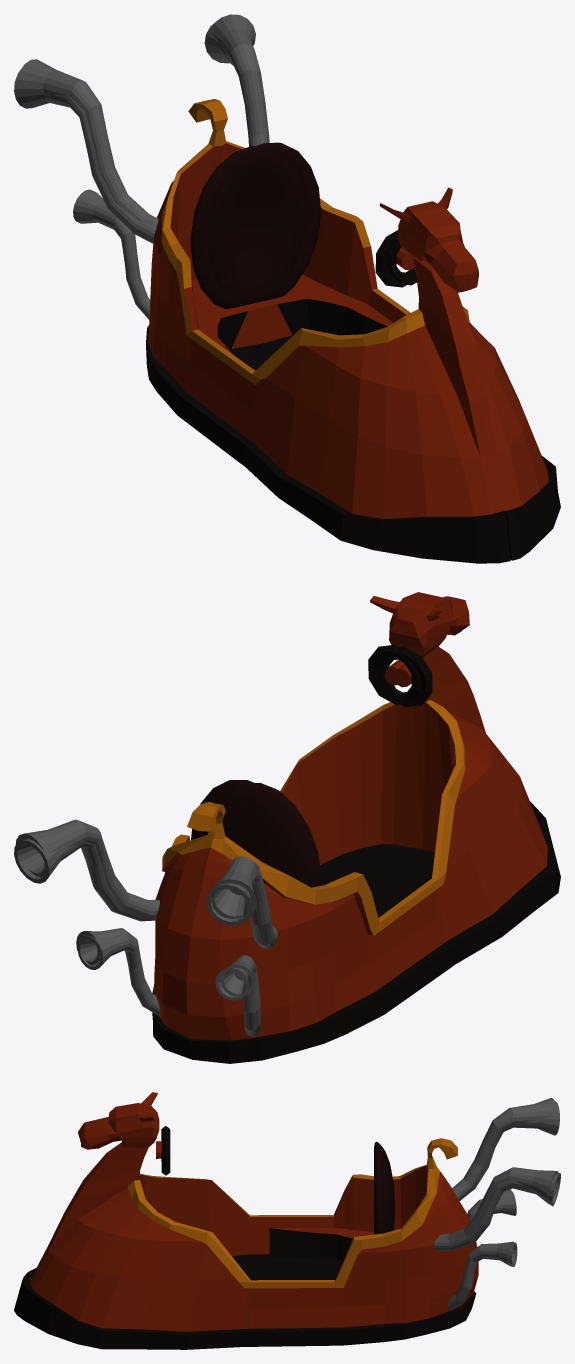
Rendered from KartVikingo.obj.
The picture shows the model from 3 angles, top to bottom: view 1: azimuth 30°, elevation 25°; view 2: azimuth 150°, elevation 25°; view 3: azimuth 270°, elevation 25°; orthographic projection. The views are drawn at different scales.
Parts seen in each view (by area): view 1: Cube.009; view 2: Cube.009; view 3: Cube.009.
Boxes of the visible parts, x1,y1,x2,y2 form: Cube.009: [14, 14, 560, 563]; Cube.009: [14, 592, 560, 1063]; Cube.009: [14, 1092, 560, 1349].
Size of the model in its own units: 3.74 by 4.37 by 10.33.
